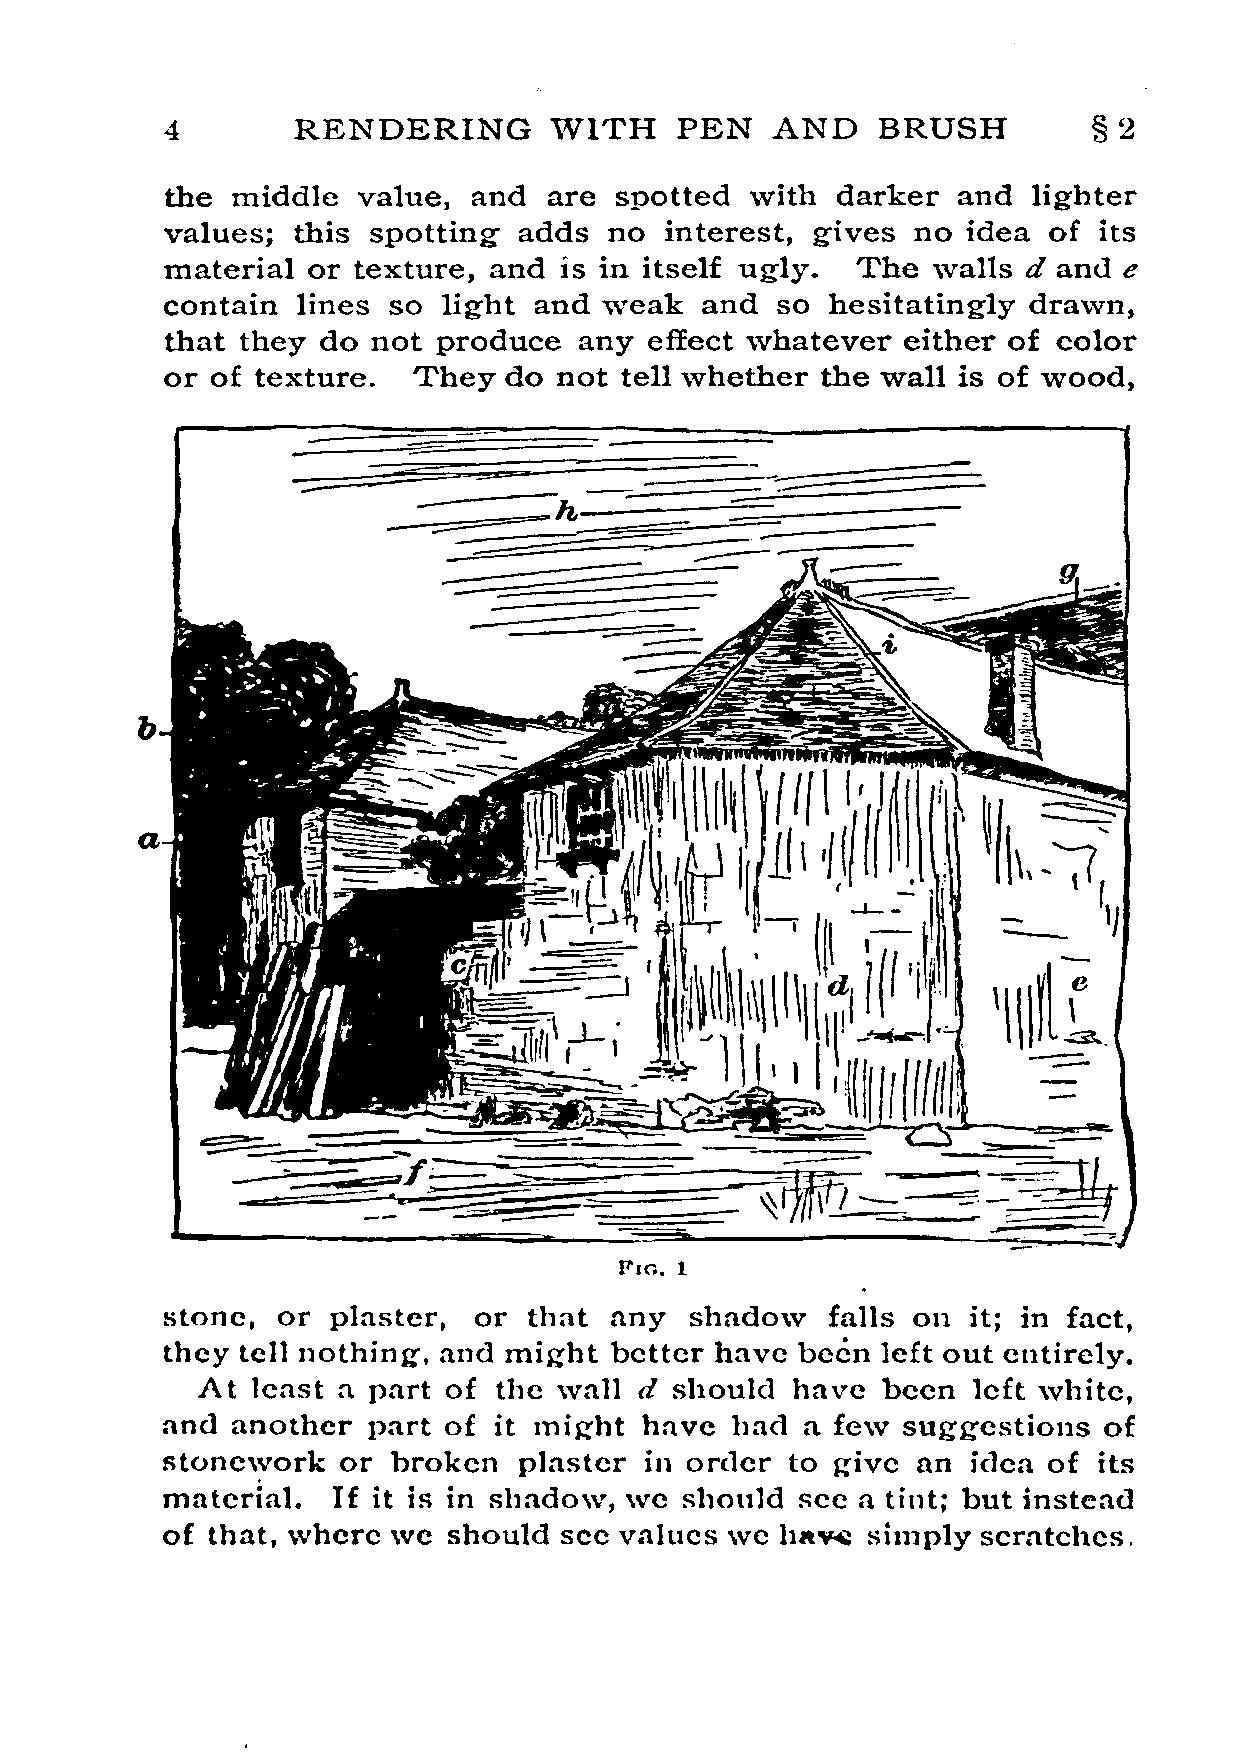content: (136, 176, 1143, 1555)
content_chapter: (289, 113, 1011, 142)
content_pagenumber: (160, 117, 181, 148)
